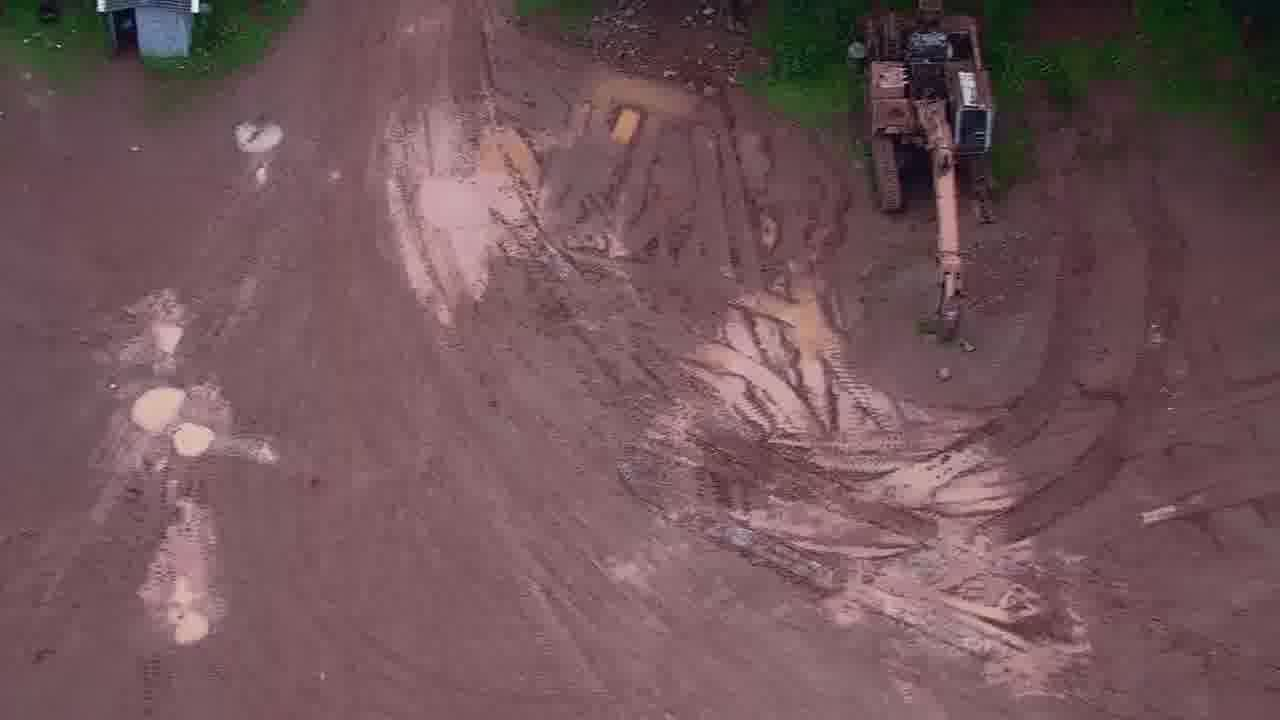HMV: (847, 1, 997, 335)
